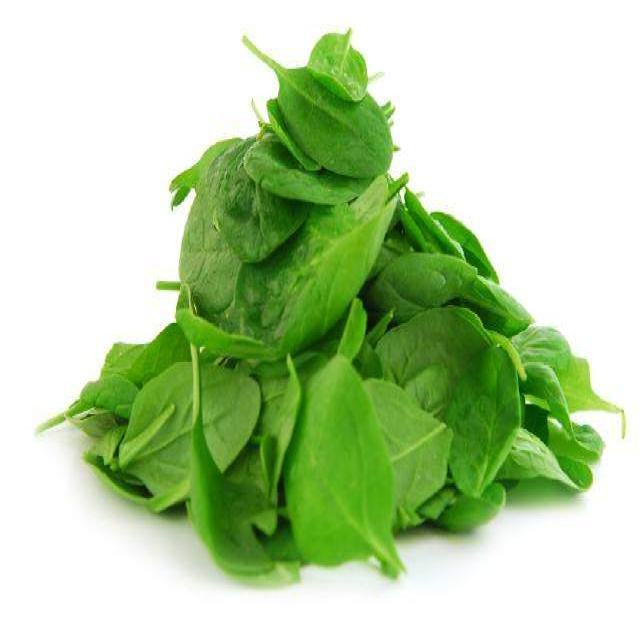spinach: (55, 36, 460, 574)
